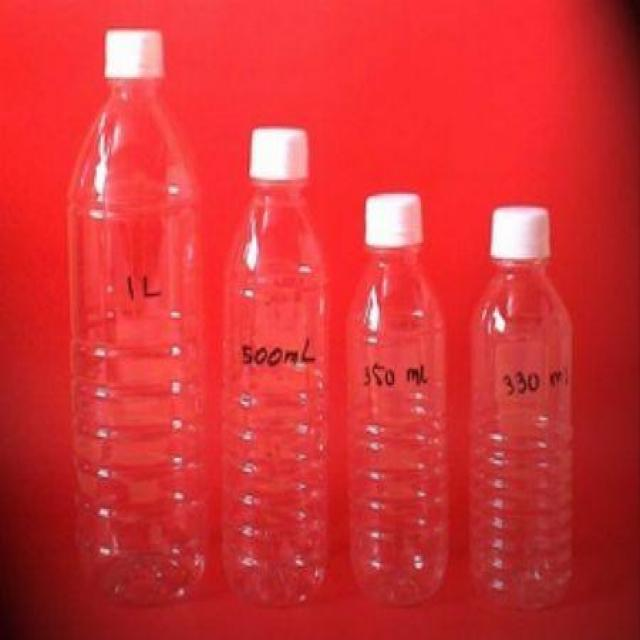plastic_bottle: (72, 33, 210, 602), (223, 142, 328, 600), (474, 220, 579, 607), (357, 201, 444, 602)
